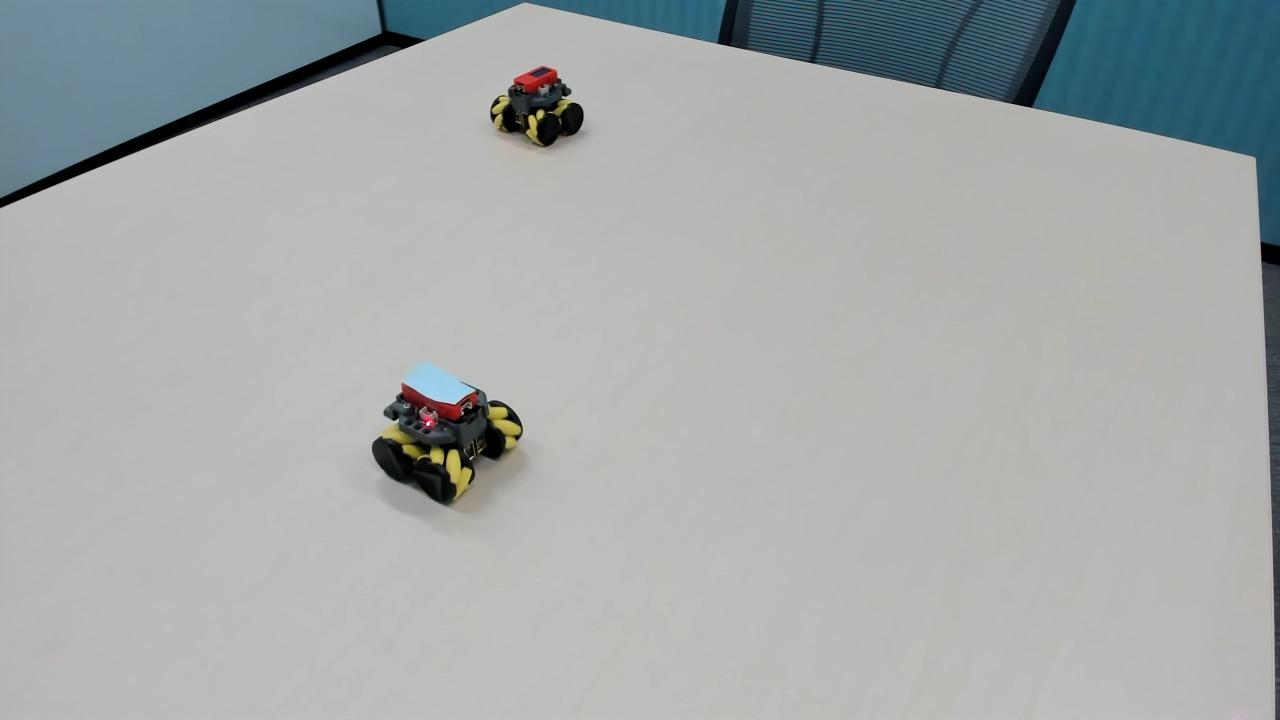B-Robot: (366, 355, 538, 514)
R-Robot: (485, 58, 590, 156)
